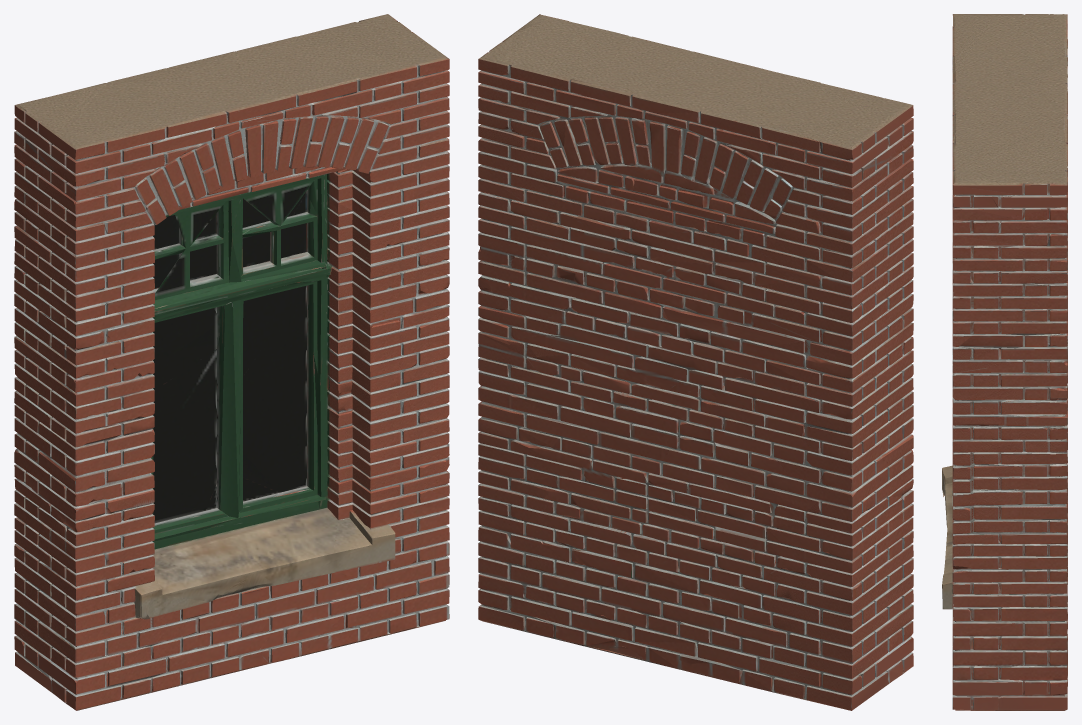
The model's file is familok_window_segmental__b.glb.
3 views of the same model, side by side, from view 1: azimuth 30°, elevation 25°; view 2: azimuth 150°, elevation 25°; view 3: azimuth 270°, elevation 25° (orthographic). The views are drawn at different scales.
Size of the model in its own units: 1.32 by 1.9 by 0.4113.
1 material, 1 textured.
